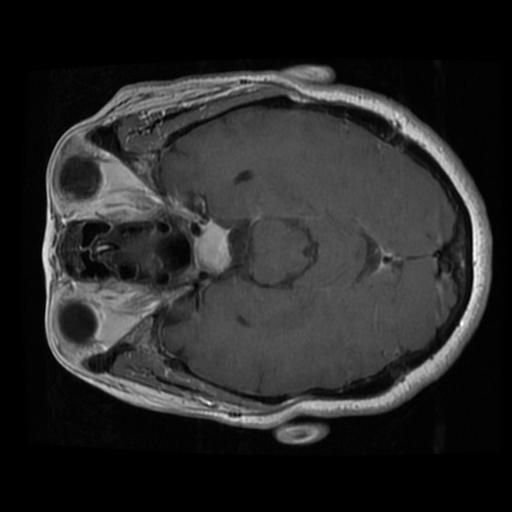pituitary tumour: (193, 221, 232, 275)
